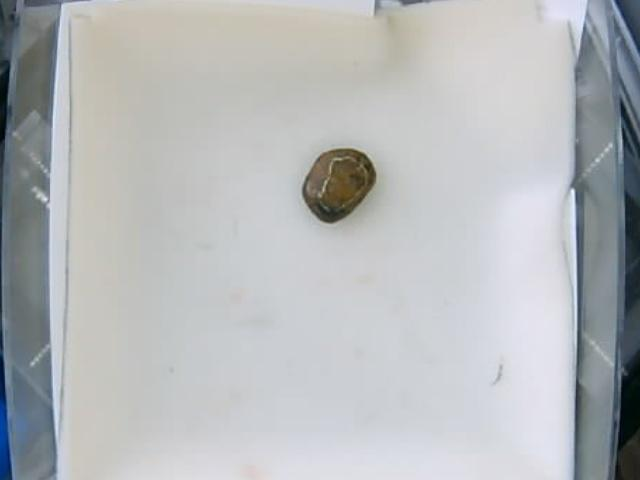Pebble: (300, 148, 376, 221)
